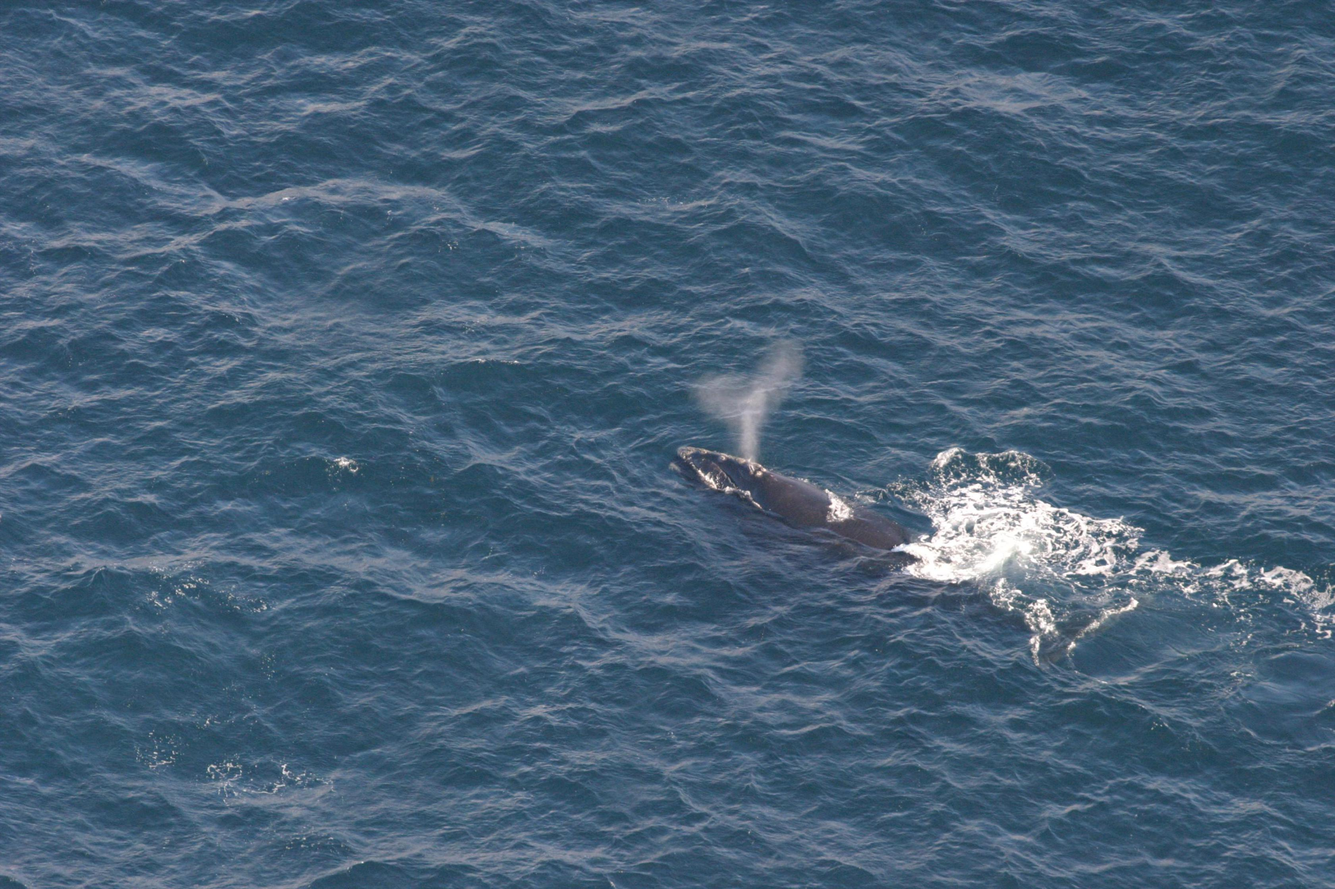whale: (662, 440, 1173, 696)
